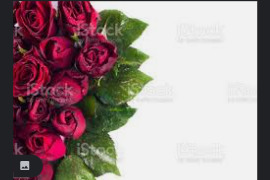RedRose: (17, 1, 55, 40), (49, 74, 93, 105), (25, 129, 68, 160), (66, 2, 104, 37), (14, 55, 49, 93), (82, 40, 120, 74), (45, 36, 76, 72), (56, 109, 92, 139), (22, 90, 51, 126)
